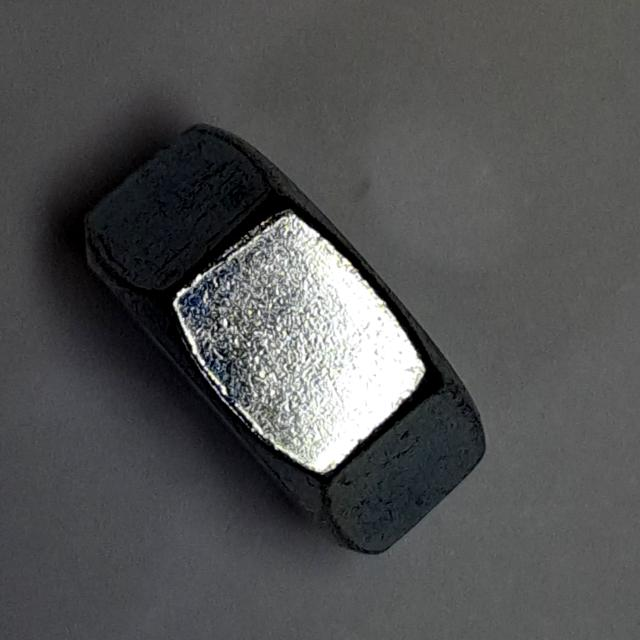Side_Excellent: (70, 119, 497, 567)
